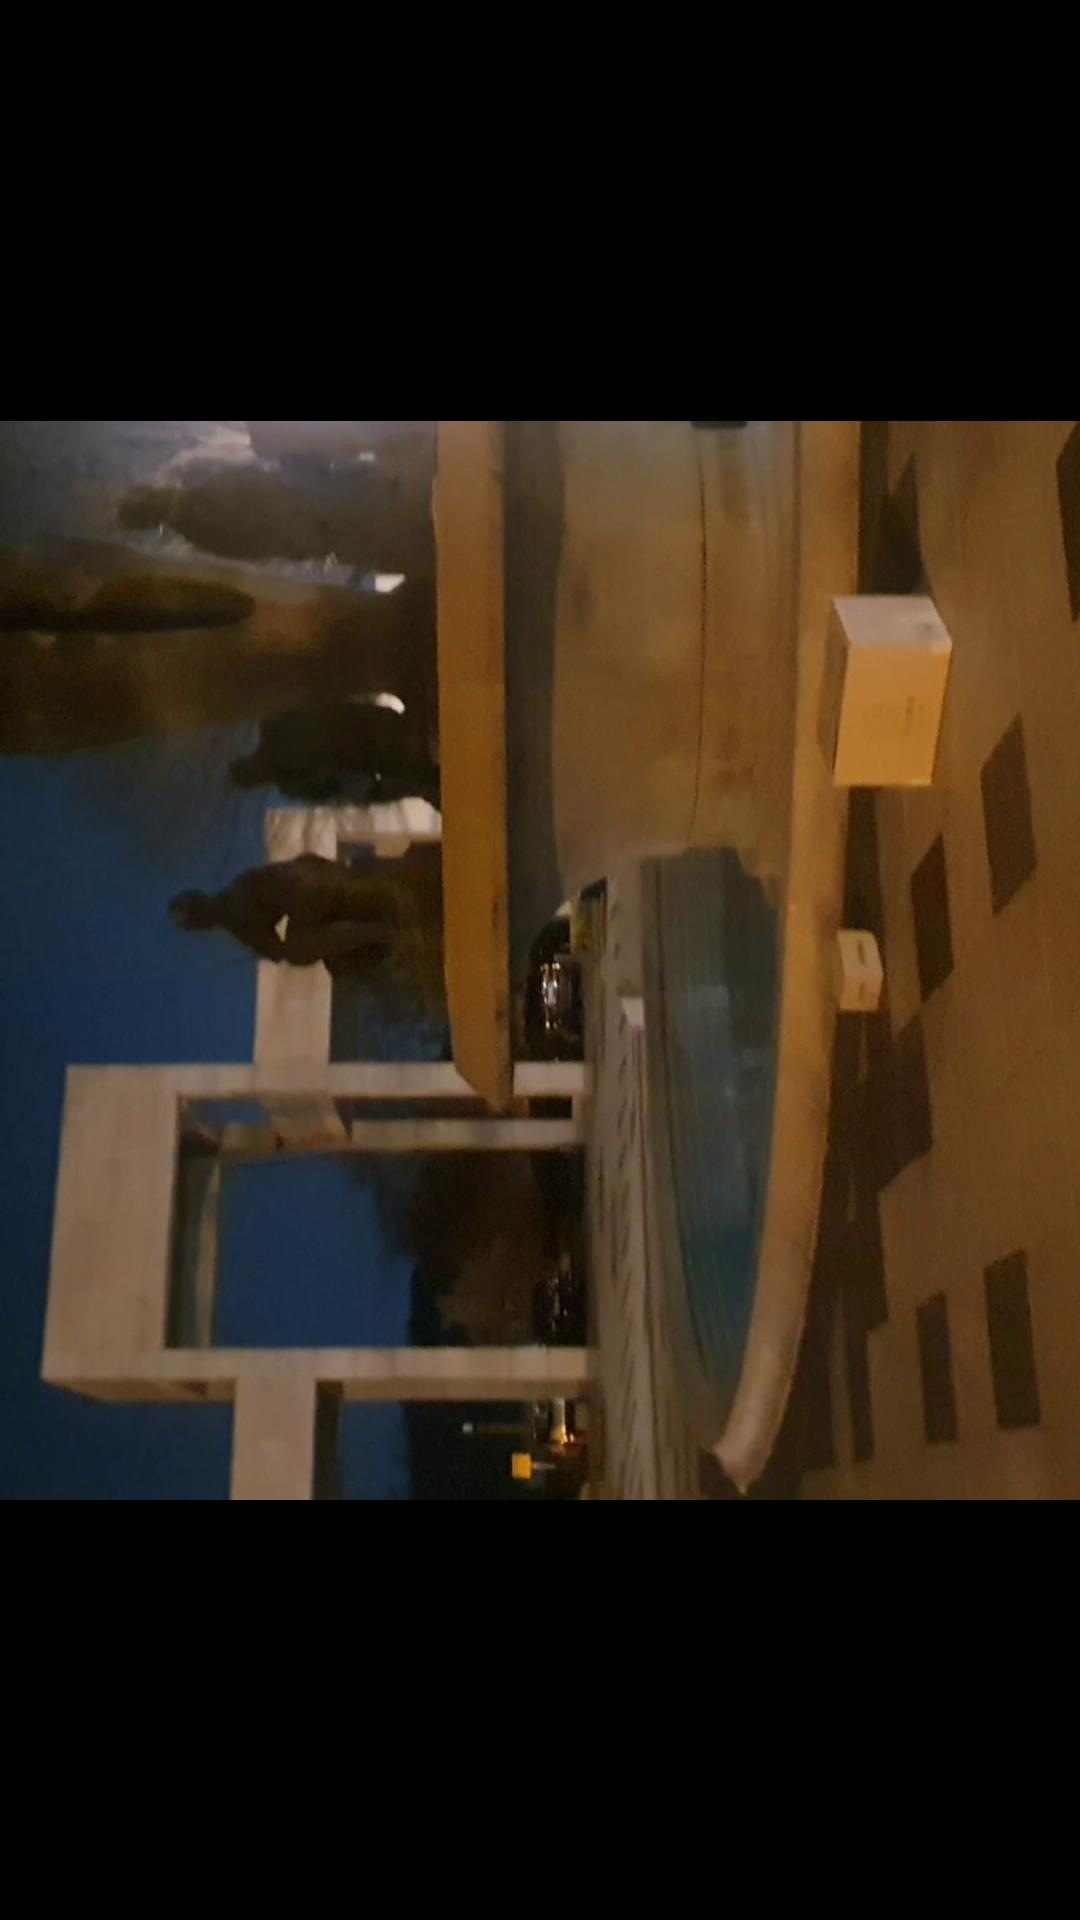Box: (800, 578, 967, 794), (814, 927, 893, 1029)
